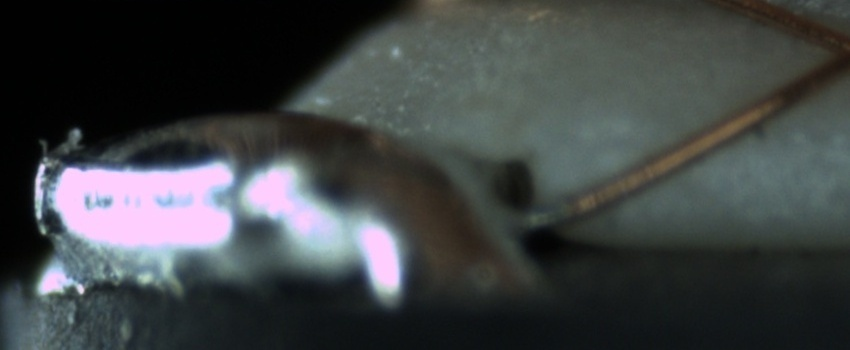CL: (803, 11, 850, 85)
TS: (520, 200, 571, 231)
